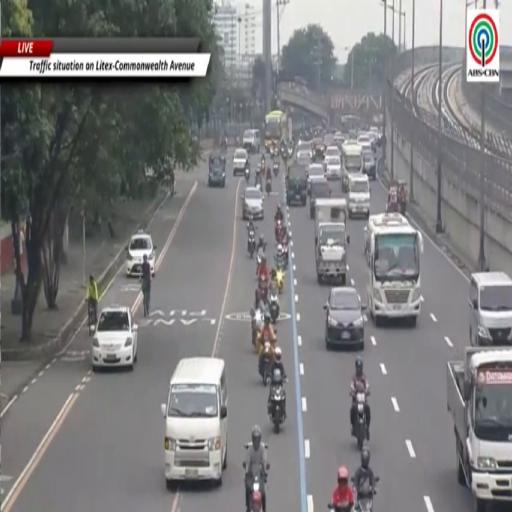bus: (265, 110, 288, 152)
car: (92, 307, 137, 371), (324, 286, 366, 349), (126, 230, 156, 277), (286, 163, 307, 205), (310, 179, 331, 218), (242, 187, 263, 220), (209, 154, 226, 187), (308, 164, 324, 195), (243, 130, 260, 153), (233, 149, 248, 175), (325, 156, 341, 180), (363, 152, 376, 180), (297, 141, 312, 159), (297, 153, 311, 166), (325, 146, 340, 158)
motorcycle: (245, 463, 269, 511), (354, 392, 369, 451), (269, 380, 285, 433), (259, 341, 273, 386), (354, 485, 376, 511), (250, 309, 263, 348), (250, 476, 262, 512), (268, 292, 280, 324), (248, 230, 256, 258), (275, 255, 285, 274), (275, 219, 282, 244), (328, 504, 353, 511), (282, 240, 288, 267), (273, 160, 279, 177), (266, 179, 272, 195), (280, 146, 288, 158), (245, 166, 250, 183), (222, 137, 227, 151), (288, 147, 293, 157)
truck: (447, 347, 511, 511), (366, 214, 423, 326), (315, 199, 349, 285), (364, 214, 409, 265), (342, 141, 363, 191)
